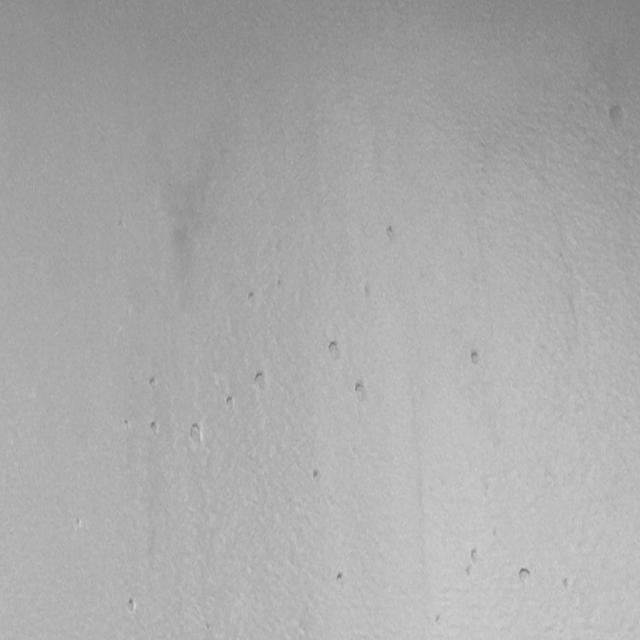pin holes: (606, 104, 631, 137), (516, 564, 536, 589), (187, 422, 206, 448), (466, 545, 484, 569), (253, 370, 271, 392), (354, 378, 372, 400), (326, 339, 344, 360), (469, 348, 485, 367), (384, 223, 398, 244), (125, 596, 140, 614), (224, 394, 238, 413), (335, 570, 349, 589), (245, 289, 258, 309), (148, 373, 162, 390), (310, 469, 324, 485), (559, 576, 572, 592), (433, 612, 446, 628), (74, 516, 87, 532), (274, 274, 287, 290), (122, 416, 133, 434), (148, 418, 160, 433)
